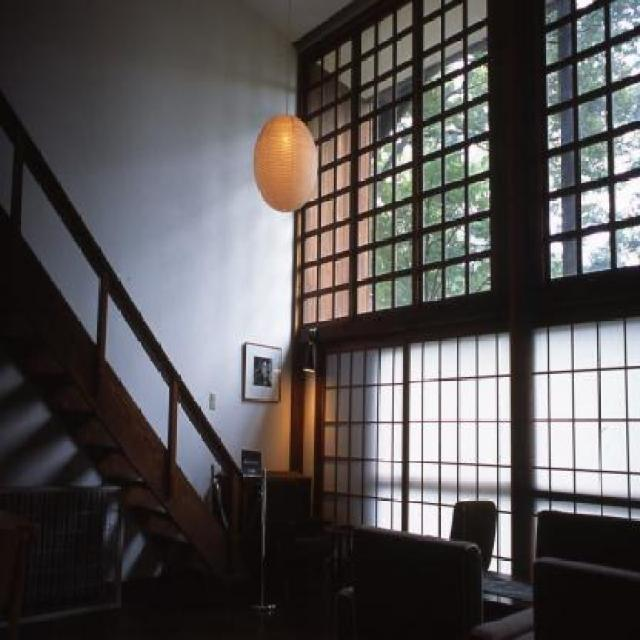stair: (0, 198, 246, 611)
